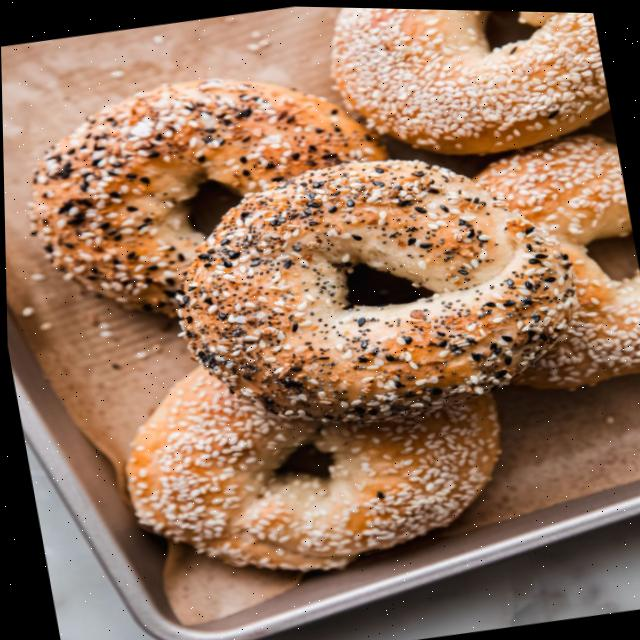Bagel: (176, 159, 575, 421), (28, 77, 386, 315), (124, 368, 498, 570), (473, 132, 640, 386), (331, 6, 608, 152)
